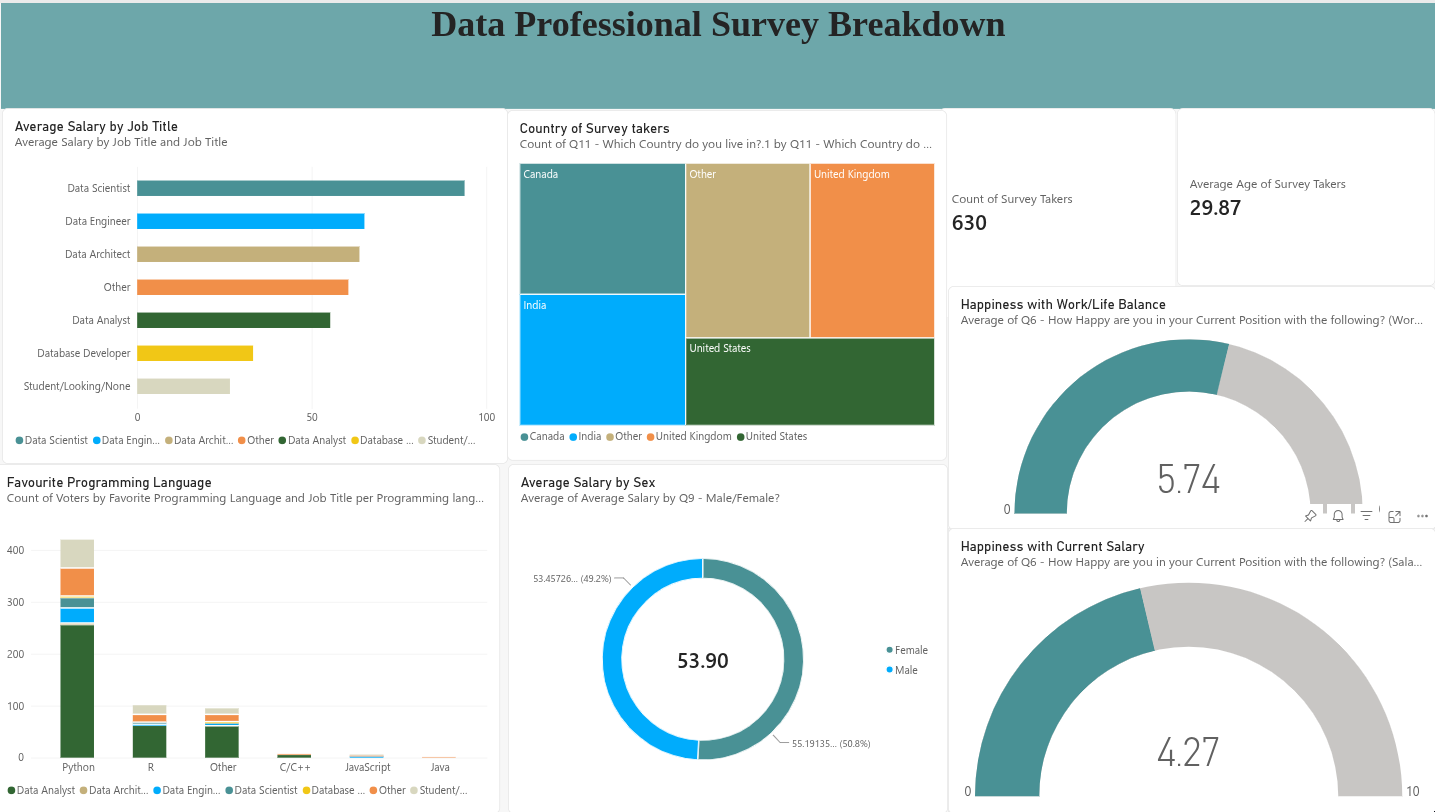

Layout of this report page (visuals, bound fields, positions):
{"tool":"powerbi","page":{"name":"Page 1","canvas":[1920,1080],"ordinal":0},"visuals":[{"type":"textbox","box":[10,0,280,280],"z":0},{"type":"textbox","box":[9.2,0,1910.8,140.9],"z":1000},{"type":"cardVisual","fields":{"Data":["Count(Data Professional Survey.Unique ID)"]},"box":[1258.6,140.3,316.7,280.6],"z":2000},{"type":"cardVisual","fields":{"Data":["Avg(Data Professional Survey.Q10 - Current Age)"]},"box":[1575.4,139.8,344.9,237],"z":3000},{"type":"barChart","title":"Average Salary by Job Title","fields":{"Category":["Data Professional Survey.Q1 - Which Title Best Fits your Current Role?.1"],"Y":["Avg(Data Professional Survey.Average Salary)"],"Series":["Data Professional Survey.Q1 - Which Title Best Fits your Current Role?.1"]},"box":[10.5,140.4,673.9,473.9],"z":4000},{"type":"columnChart","title":"Favourite Programming Language","fields":{"Category":["Data Professional Survey.Q5 - Favorite Programming Language.1"],"Y":["CountNonNull(Data Professional Survey.Unique ID)"],"Series":["Data Professional Survey.Q1 - Which Title Best Fits your Current Role?.1"]},"box":[0,614.3,673.8,466.1],"z":4001},{"type":"treemap","title":"Country of Survey takers","fields":{"Values":["Count(Data Professional Survey.Q11 - Which Country do you live in?.1)"],"Group":["Data Professional Survey.Q11 - Which Country do you live in?.1"]},"box":[683.6,141.9,586.5,466.9],"z":4002},{"type":"gauge","title":"Happiness with Work/Life Balance","fields":{"Y":["Avg(Data Professional Survey.Q6 - How Happy are you in your Current Position with the following? (Work/Life Balance))"],"MinValue":["Min(Data Professional Survey.Q6 - How Happy are you in your Current Position with the following? (Work/Life Balance))"],"MaxValue":["Max(Data Professional Survey.Q6 - How Happy are you in your Current Position with the following? (Work/Life Balance))"]},"box":[1270,377.3,650,325],"z":4003},{"type":"gauge","title":"Happiness with Current Salary","fields":{"Y":["Avg(Data Professional Survey.Q6 - How Happy are you in your Current Position with the following? (Salary))"],"MinValue":["Min(Data Professional Survey.Q6 - How Happy are you in your Current Position with the following? (Salary))"],"MaxValue":["Max(Data Professional Survey.Q6 - How Happy are you in your Current Position with the following? (Salary))"]},"box":[1270,698.5,650,381],"z":4004},{"type":"donutChart","title":"Average Salary by Sex","fields":{"Category":["Data Professional Survey.Q9 - Male/Female?"],"Y":["Avg(Data Professional Survey.Average Salary)"]},"box":[684,614,586,466],"z":4005}]}

Visuals, with their boxes in screenshot pixels (x1, y1, x2, y2), scaled from the page's 1920x1080 canvas onto the 1435x812 screenshot:
textbox: box(7, 0, 217, 211)
textbox: box(7, 0, 1434, 106)
cardVisual - Count(Data Professional Survey.Unique ID): box(941, 105, 1177, 316)
cardVisual - Avg(Data Professional Survey.Q10 - Current Age): box(1177, 105, 1434, 283)
"Average Salary by Job Title" barChart: box(8, 106, 512, 462)
"Favourite Programming Language" columnChart: box(0, 462, 504, 811)
"Country of Survey takers" treemap: box(511, 107, 949, 458)
"Happiness with Work/Life Balance" gauge: box(949, 284, 1434, 528)
"Happiness with Current Salary" gauge: box(949, 525, 1434, 811)
"Average Salary by Sex" donutChart: box(511, 462, 949, 811)
